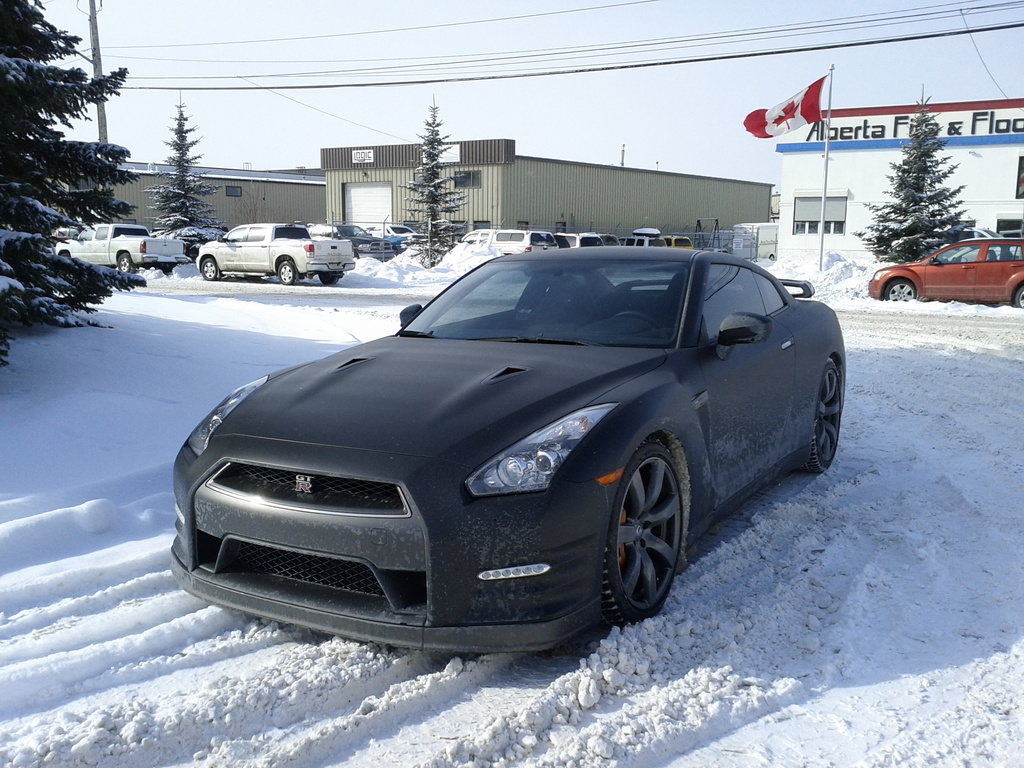Car: (168, 242, 847, 655), (865, 236, 1024, 308), (460, 222, 694, 255)
